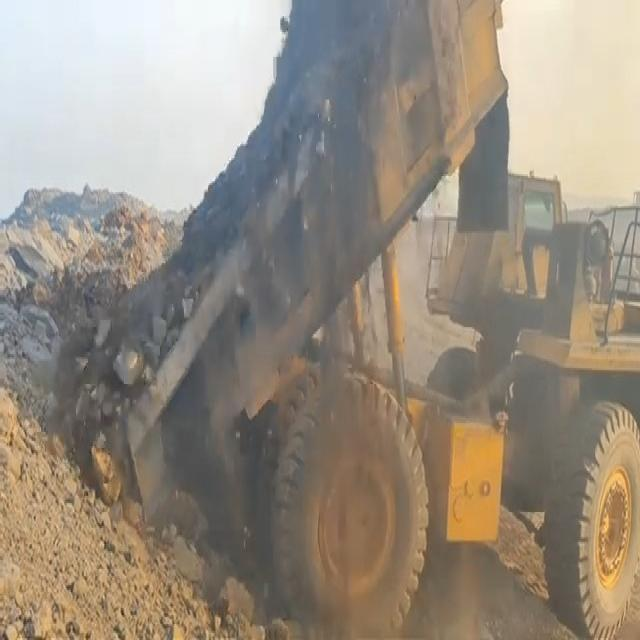dump_truck: (127, 0, 640, 640)
